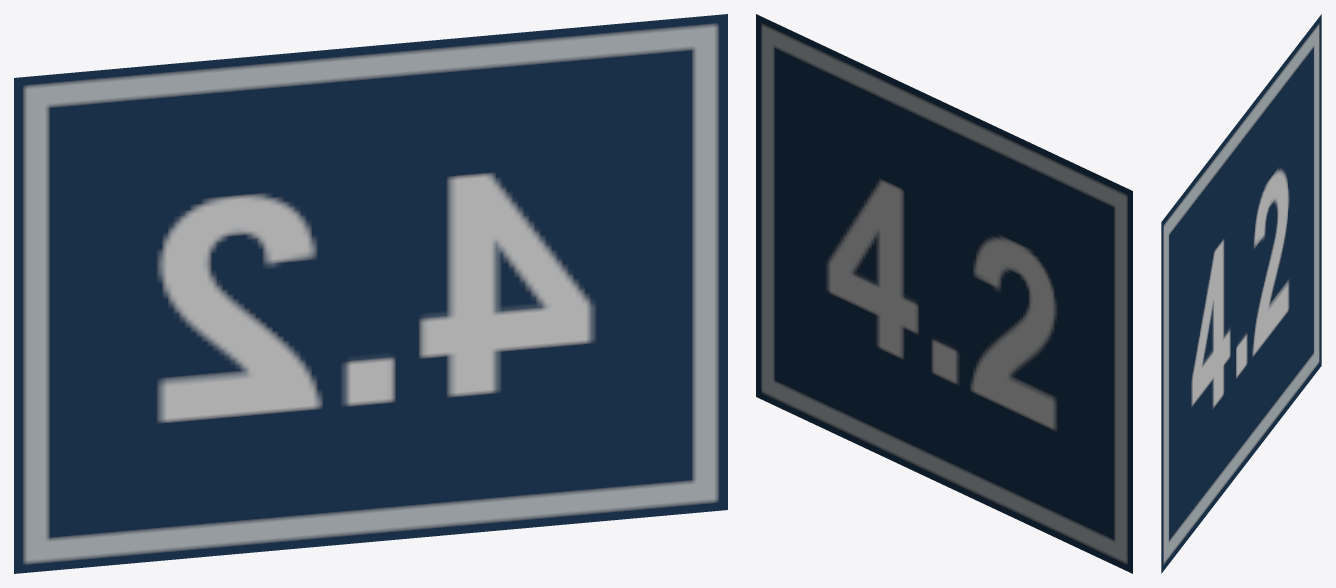
The model's file is cell-450_90.glb.
3 renders of one model, left to right at view 1: azimuth 30°, elevation 25°; view 2: azimuth 150°, elevation 25°; view 3: azimuth 270°, elevation 25°, orthographic. The views are drawn at different scales.
Parts seen in each view (by area): view 1: cell-450_90; view 2: cell-450_90; view 3: cell-450_90.
Part boxes in pixels (bbox=[...]): cell-450_90: bbox=[14, 14, 727, 573]; cell-450_90: bbox=[756, 14, 1132, 573]; cell-450_90: bbox=[1161, 14, 1321, 573].
Bounding box in the file's own units: 0.1141 × 0.09 × 0.0371.
1 material, 1 textured.
